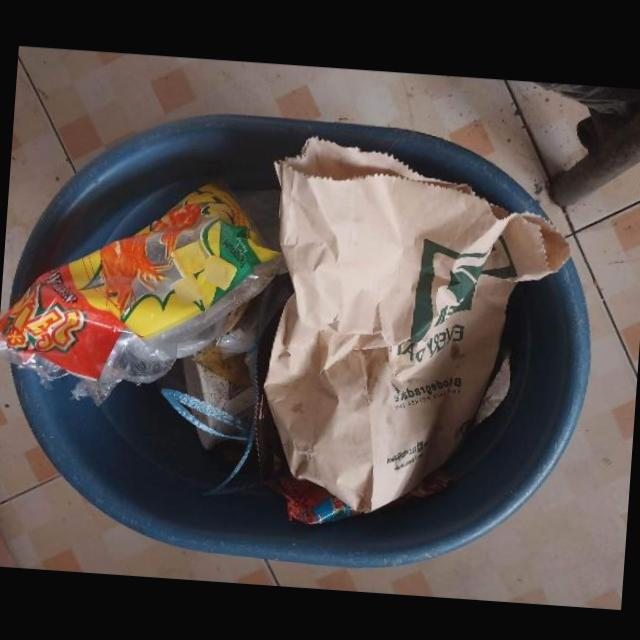bao_bi_thuc_pham: (0, 178, 288, 406), (264, 473, 361, 525)
giay: (262, 136, 570, 511)
